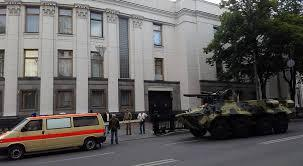car: (1, 113, 103, 158)
person: (109, 112, 119, 144), (136, 112, 147, 134), (124, 110, 132, 136)
tank: (178, 86, 296, 144)
